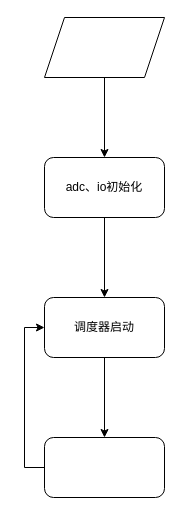
Image size: 182x515. Some labels were removed from this diagram. Each missing label, with the box of its shape:
开始: (44, 16, 164, 78)
读取adc，按照测试记录的数据计算浊度: (44, 436, 164, 498)
